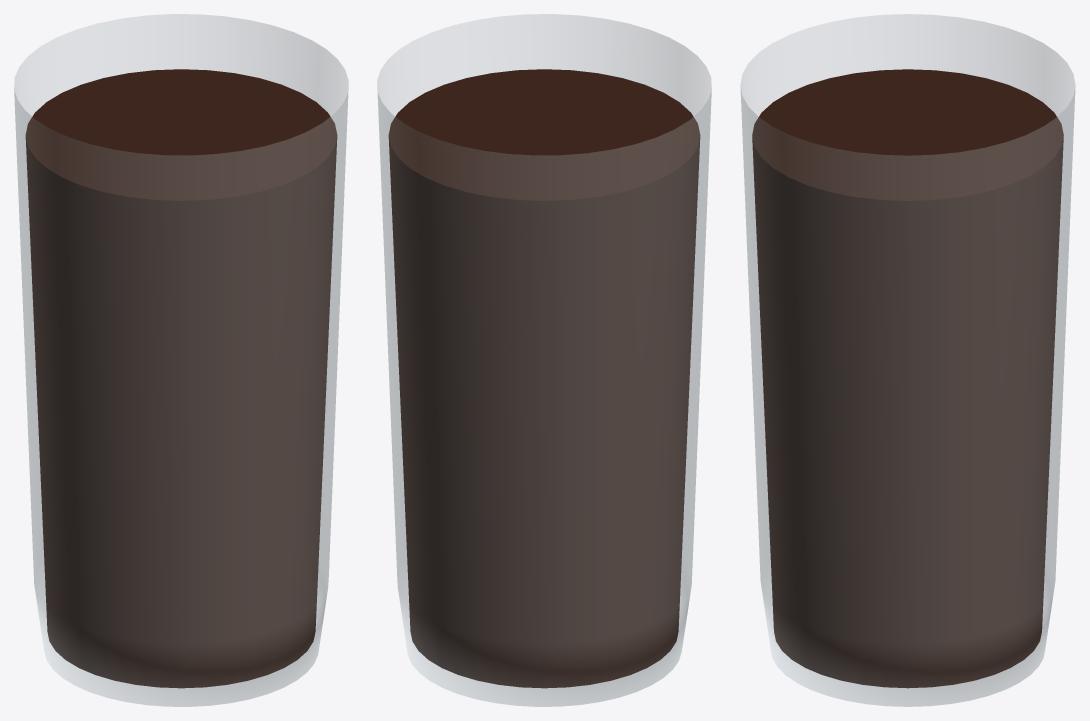
File: bebida-2-card.glb
3 renders of one model, left to right at view 1: azimuth 30°, elevation 25°; view 2: azimuth 150°, elevation 25°; view 3: azimuth 270°, elevation 25°, orthographic.
Bounding box in the file's own units: 0.07 × 0.13 × 0.07.
